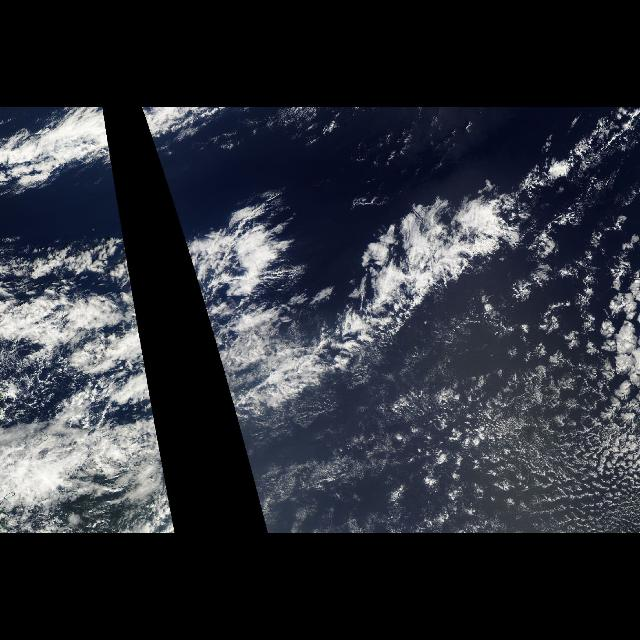Fish: (140, 108, 552, 524), (0, 108, 174, 524)
Gravel: (426, 313, 640, 533)
Sugar: (353, 385, 639, 533)
